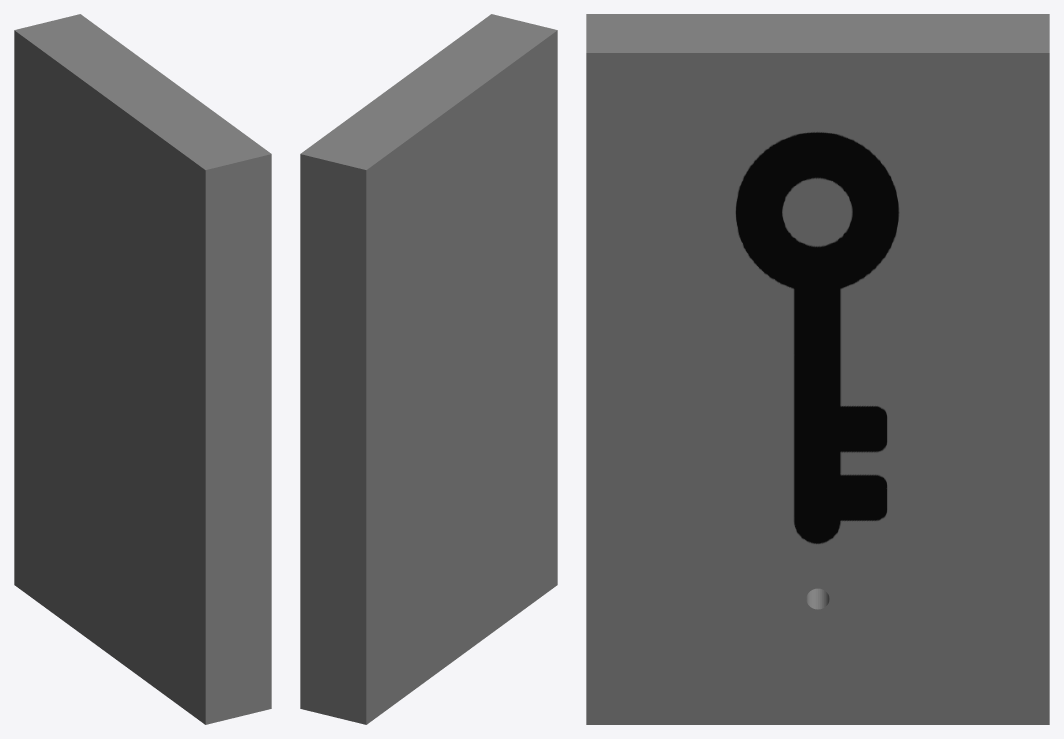
The model's file is lock.fbx.
The picture shows the model from 3 angles, left to right: view 1: azimuth 30°, elevation 25°; view 2: azimuth 150°, elevation 25°; view 3: azimuth 270°, elevation 25°; orthographic projection. The views are drawn at different scales.
Visible parts, largest first — view 1: Cube.001; view 2: Cube.001; view 3: Cube.001.
Part boxes in pixels (x1,y1,x2,y2): Cube.001: (14, 14, 271, 724); Cube.001: (300, 14, 557, 724); Cube.001: (586, 14, 1049, 724).
Bounding box in the file's own units: 2 × 16 × 10.
